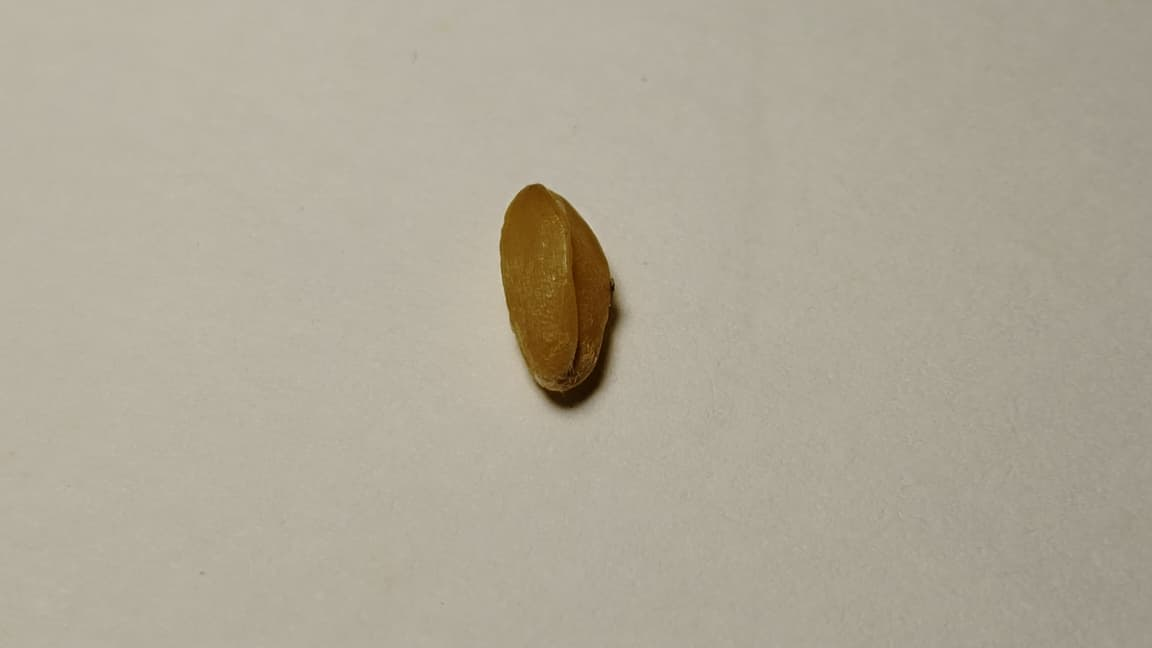healthy: (500, 183, 614, 391)
